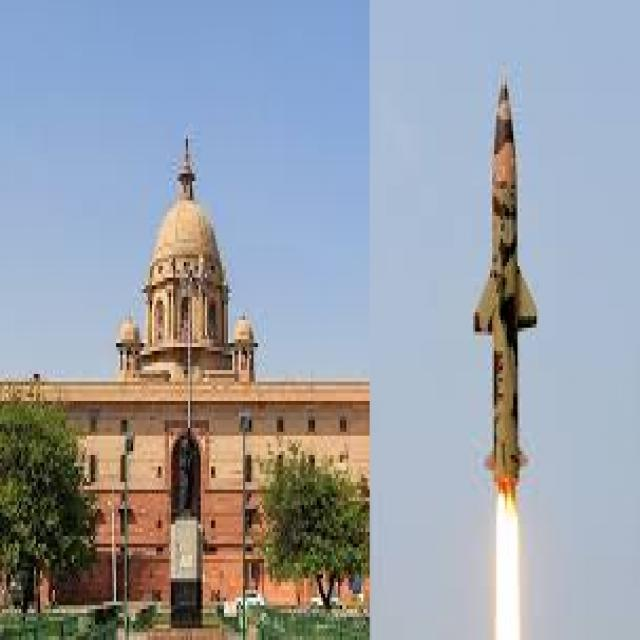Missile: (470, 70, 537, 526)
